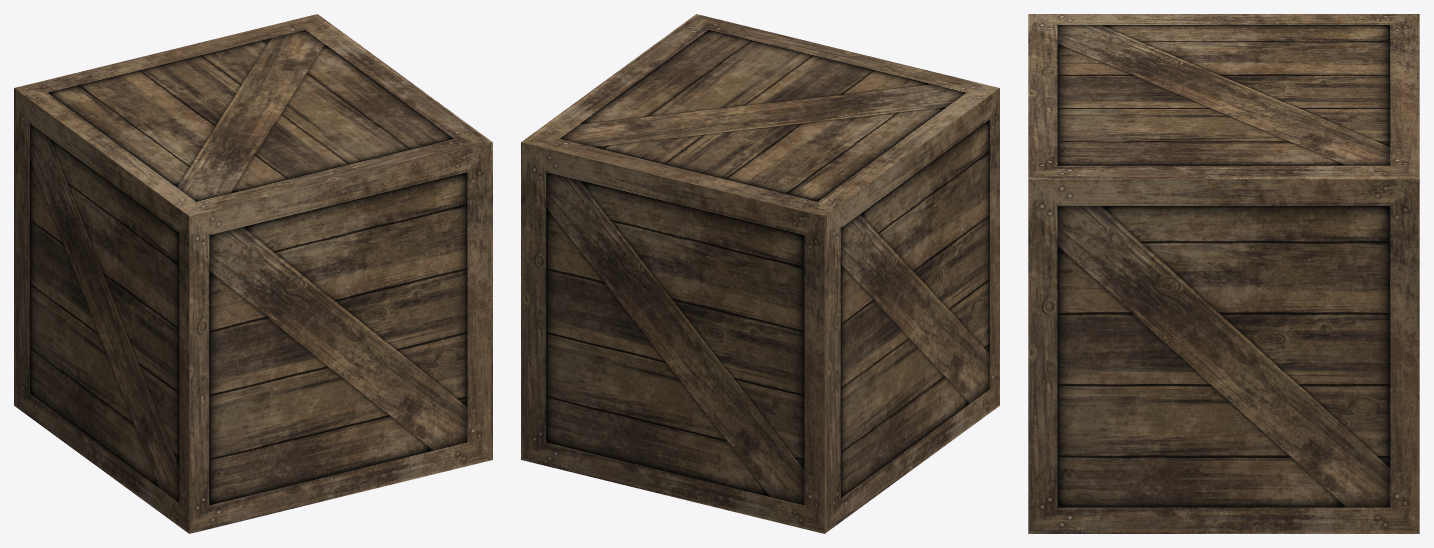
3 renders of one model, left to right at view 1: azimuth 30°, elevation 25°; view 2: azimuth 150°, elevation 25°; view 3: azimuth 270°, elevation 25°, orthographic. The views are drawn at different scales.
Parts seen in each view (by area): view 1: Cube, Cube_cell.006, Cube_cell.002, Cube_cell.017, Cube_cell.013, Cube_cell.020, Cube_cell.012, Cube_cell.024, Cube_cell.023, Cube_cell.007, Cube_cell.016, Cube_cell.015; view 2: Cube, Cube_cell.014, Cube_cell.024, Cube_cell.017, Cube_cell.010, Cube_cell.007, Cube_cell.023, Cube_cell.006, Cube_cell.016, Cube_cell.012; view 3: Cube, Cube_cell.020, Cube_cell.017, Cube_cell.003, Cube_cell.023, Cube_cell.014, Cube_cell.002, Cube_cell.018, Cube_cell.022, Cube_cell.019, Cube_cell.016, Cube_cell.011.
Boxes of the visible parts, x1,y1,x2,y2 form: Cube: (14,36,492,533); Cube_cell.006: (116,197,284,478); Cube_cell.002: (269,142,492,298); Cube_cell.017: (14,36,241,169); Cube_cell.013: (245,245,369,439); Cube_cell.020: (371,221,492,441); Cube_cell.012: (90,375,189,533); Cube_cell.024: (14,232,81,439); Cube_cell.023: (226,14,414,85); Cube_cell.007: (23,198,129,433); Cube_cell.016: (68,134,186,255); Cube_cell.015: (62,430,114,478); Cube: (521,14,999,525); Cube_cell.014: (521,277,705,472); Cube_cell.024: (705,360,891,533); Cube_cell.017: (613,93,899,276); Cube_cell.010: (590,398,775,521); Cube_cell.007: (701,239,916,454); Cube_cell.023: (521,71,628,164); Cube_cell.006: (926,167,999,341); Cube_cell.016: (871,109,968,239); Cube_cell.012: (901,330,977,459); Cube: (1028,14,1419,533); Cube_cell.020: (1028,233,1187,513); Cube_cell.017: (1107,14,1419,129); Cube_cell.003: (1049,309,1262,533); Cube_cell.023: (1138,129,1419,324); Cube_cell.014: (1234,334,1419,523); Cube_cell.002: (1028,179,1112,264); Cube_cell.018: (1229,269,1419,374); Cube_cell.022: (1093,179,1199,245); Cube_cell.019: (1252,417,1403,533); Cube_cell.016: (1096,14,1278,42); Cube_cell.011: (1035,500,1171,533).
Bounding box in the file's own units: 200 × 200 × 200.
